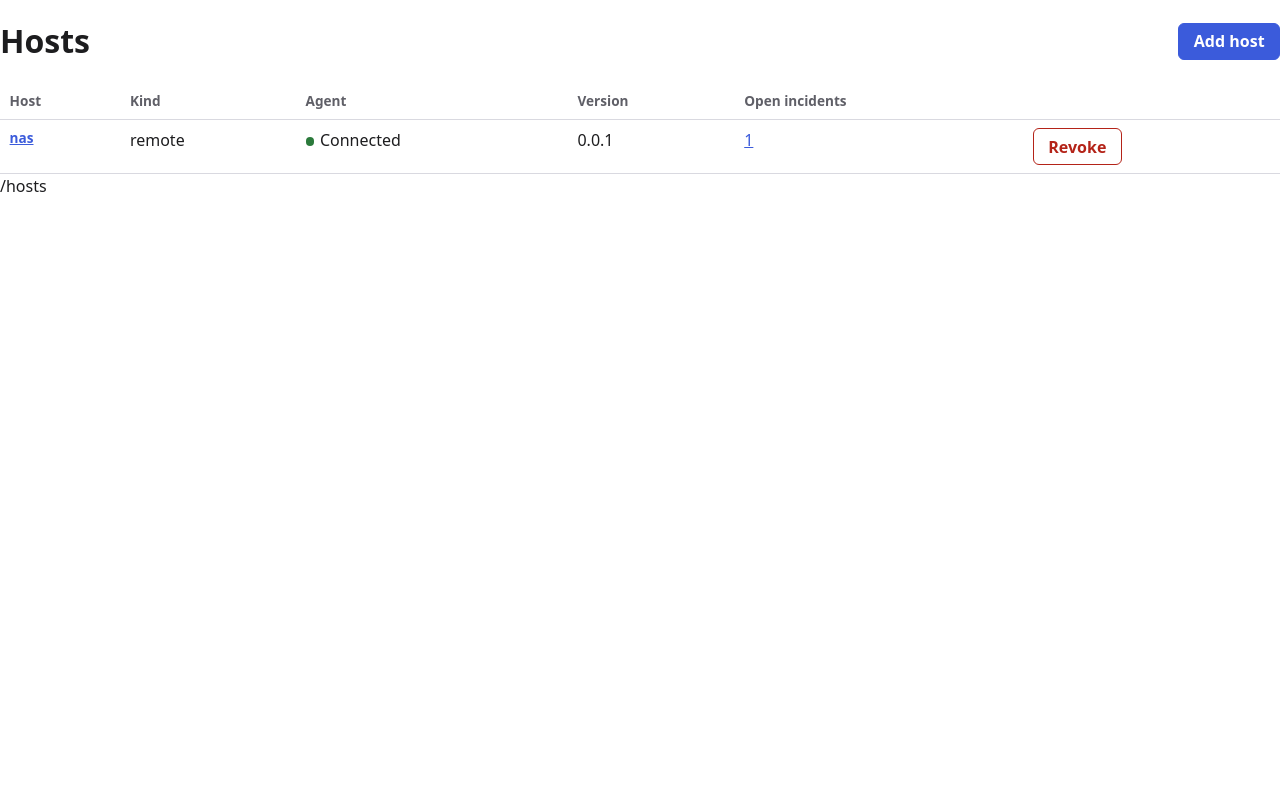
Test: revoke_requires_confirmation
Click the button "Revoke": (1077, 147) x1=1033 y1=128 x2=1122 y2=166
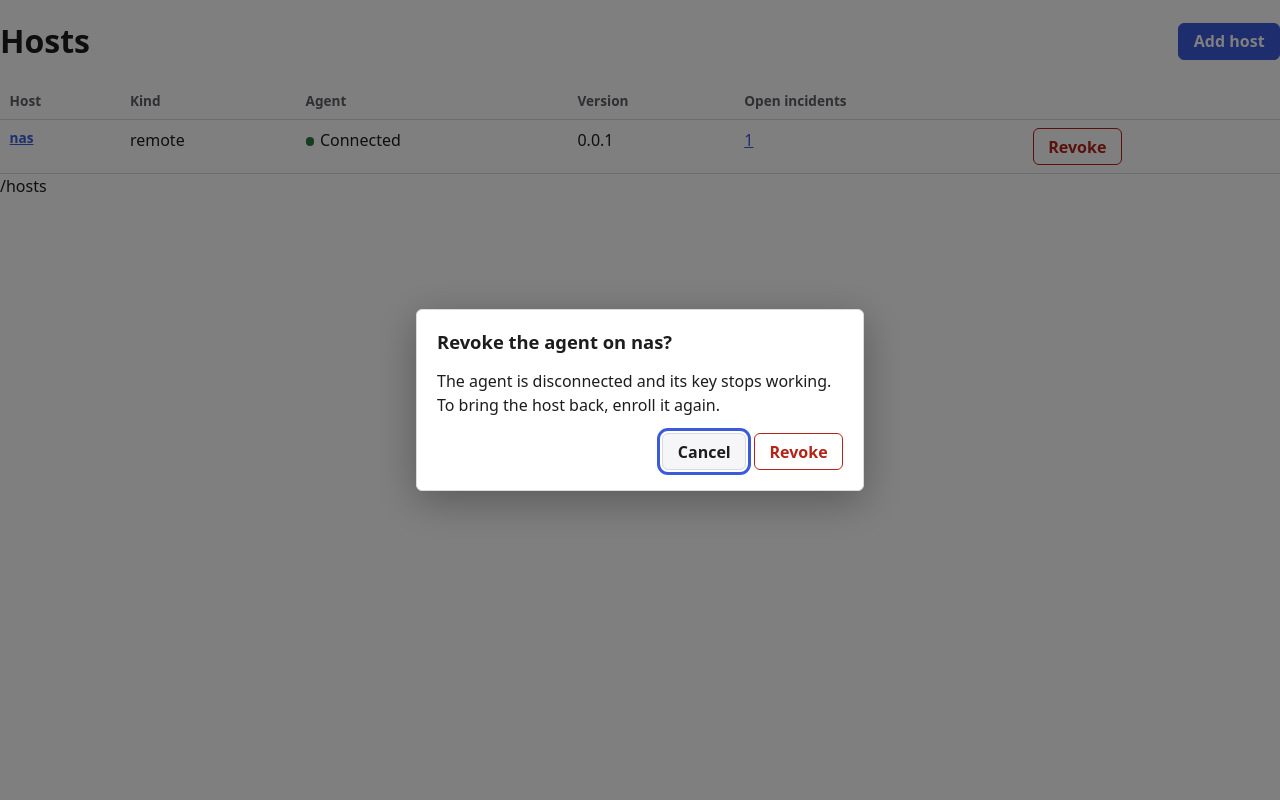
Click the button "Cancel": (704, 452) x1=662 y1=433 x2=746 y2=470
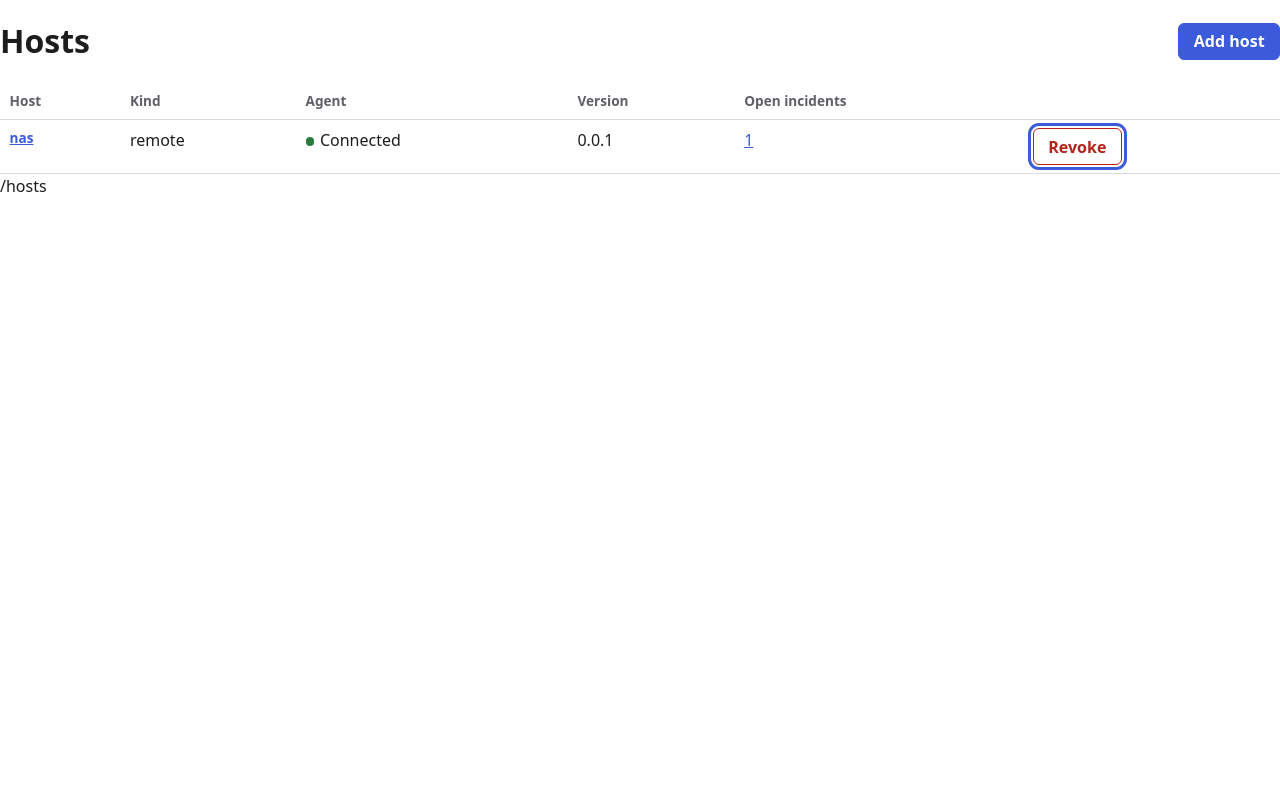
Result: the dialog is gone
Click the button "Revoke": (1077, 147) x1=1033 y1=128 x2=1122 y2=166
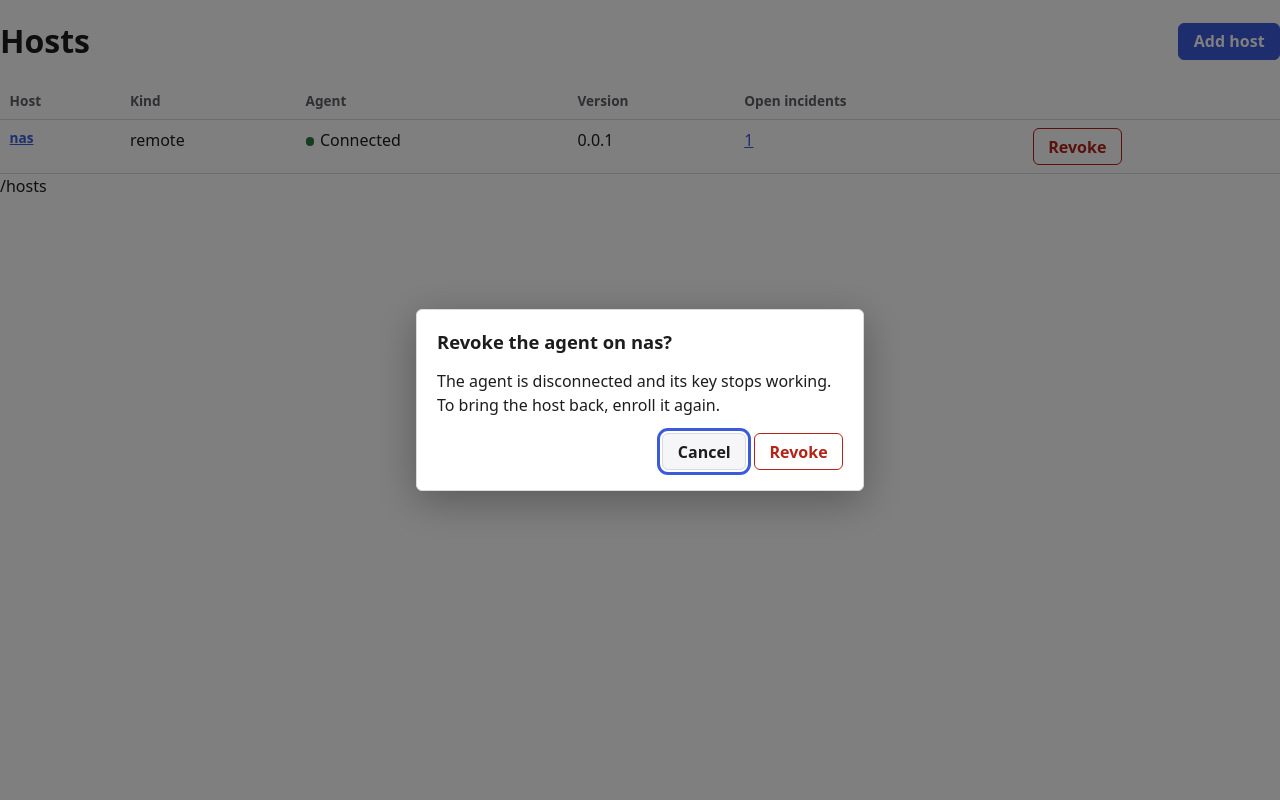
Click the button "Revoke" below "Revoke the agent on nas?": (799, 452) x1=754 y1=433 x2=843 y2=470
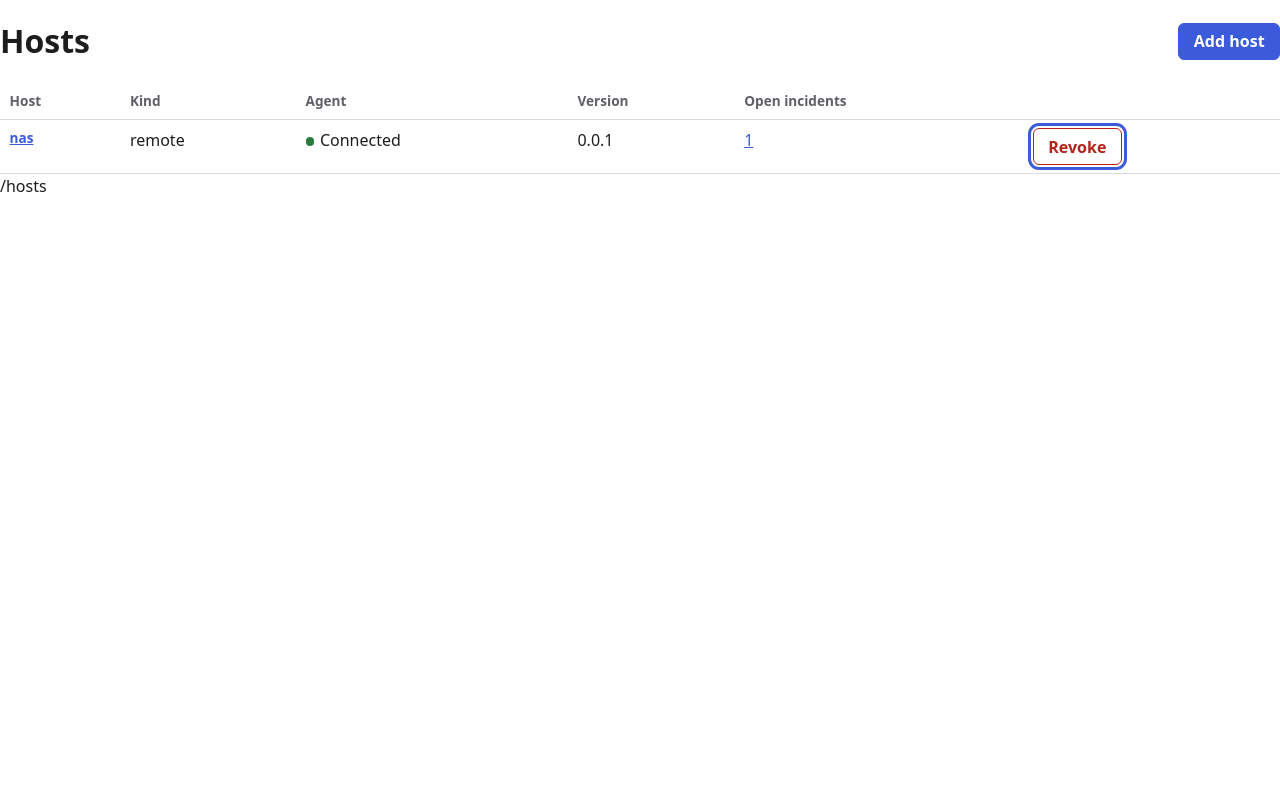
Result: the dialog is gone
